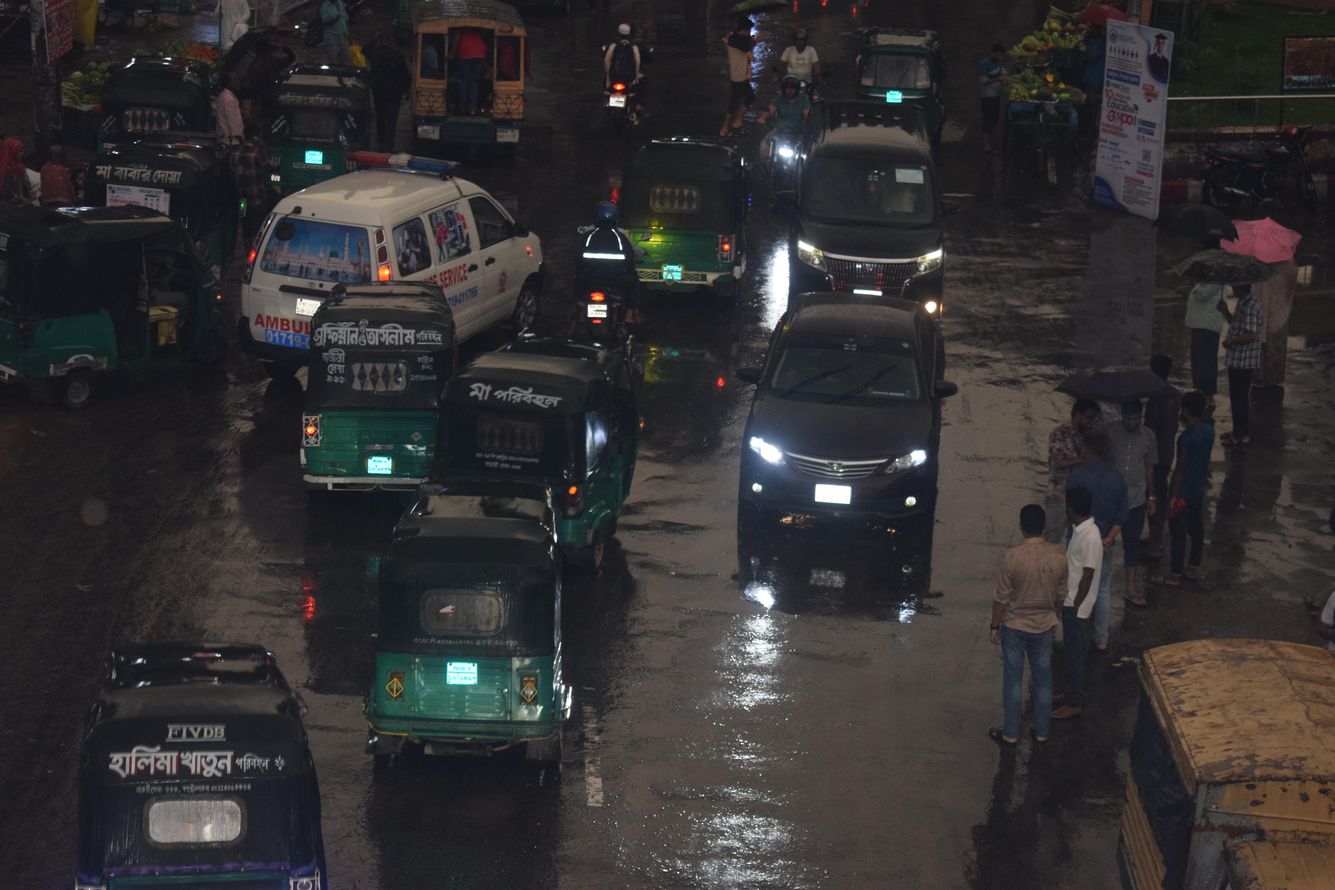Car: (708, 273, 986, 619), (206, 119, 572, 357), (1061, 587, 1335, 890), (761, 86, 979, 334), (380, 0, 549, 171)
